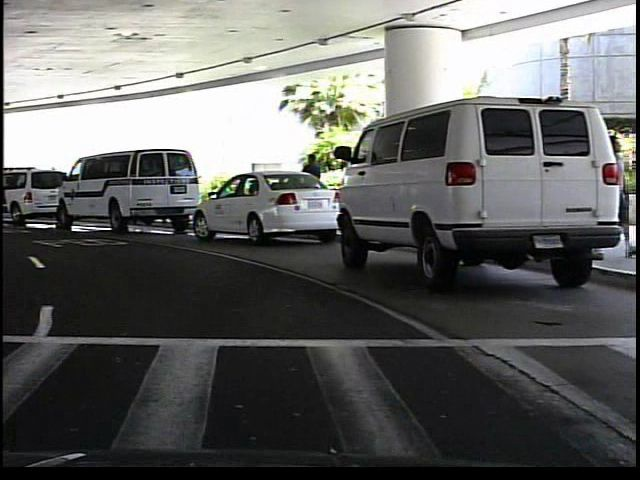person: (298, 150, 328, 225)
